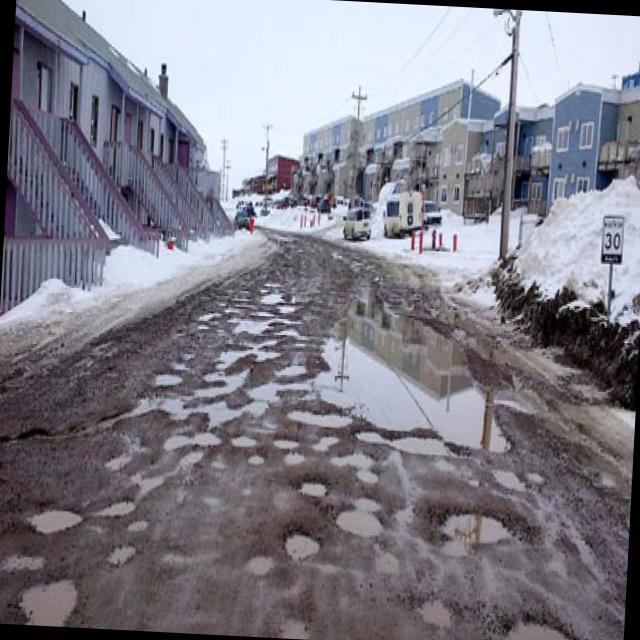Pothole: (433, 497, 522, 562), (10, 571, 84, 628), (352, 424, 455, 460), (329, 492, 394, 542), (500, 604, 582, 640), (24, 496, 88, 540), (157, 421, 225, 458), (412, 589, 462, 636), (330, 450, 382, 490), (282, 402, 356, 430), (92, 488, 140, 524), (280, 524, 323, 564), (200, 390, 240, 426), (246, 378, 281, 418), (270, 432, 308, 468), (486, 462, 526, 496), (290, 472, 332, 504), (202, 362, 246, 392), (242, 548, 277, 579), (148, 364, 184, 394), (106, 542, 138, 574), (276, 612, 311, 640), (232, 316, 274, 338), (279, 357, 312, 384), (158, 396, 194, 420), (102, 449, 135, 474), (214, 341, 244, 368), (228, 428, 261, 450), (248, 342, 280, 364), (126, 430, 151, 458), (526, 464, 550, 492), (314, 431, 341, 454), (259, 284, 282, 308), (197, 305, 220, 328), (279, 294, 305, 314), (278, 325, 306, 339), (246, 452, 268, 468)
